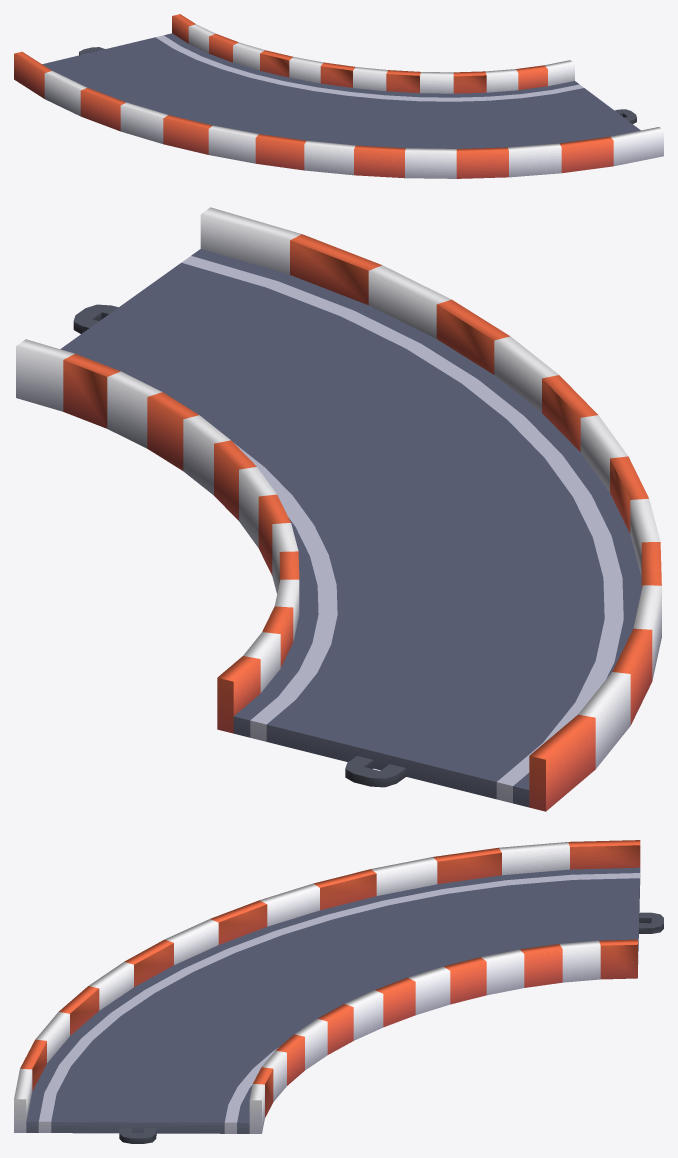
Rendered from track-road-wide-corner-large.026_lev2.glb.
3 renders of one model, top to bottom at view 1: azimuth 30°, elevation 25°; view 2: azimuth 150°, elevation 25°; view 3: azimuth 270°, elevation 25°, orthographic. The views are drawn at different scales.
Visible parts, largest first — view 1: track-road-wide-corner-large.026_lev2; view 2: track-road-wide-corner-large.026_lev2; view 3: track-road-wide-corner-large.026_lev2.
Part boxes in pixels (left/top/right/bottom): track-road-wide-corner-large.026_lev2: left=14, top=14, right=663, bottom=178; track-road-wide-corner-large.026_lev2: left=16, top=207, right=661, bottom=811; track-road-wide-corner-large.026_lev2: left=14, top=840, right=663, bottom=1143.
Bounding box in the file's own units: 5.16 × 0.3 × 5.24.
1 material, 1 textured.
